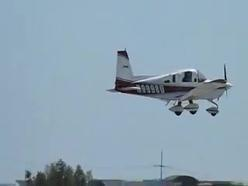aircraft: (107, 48, 232, 117)
